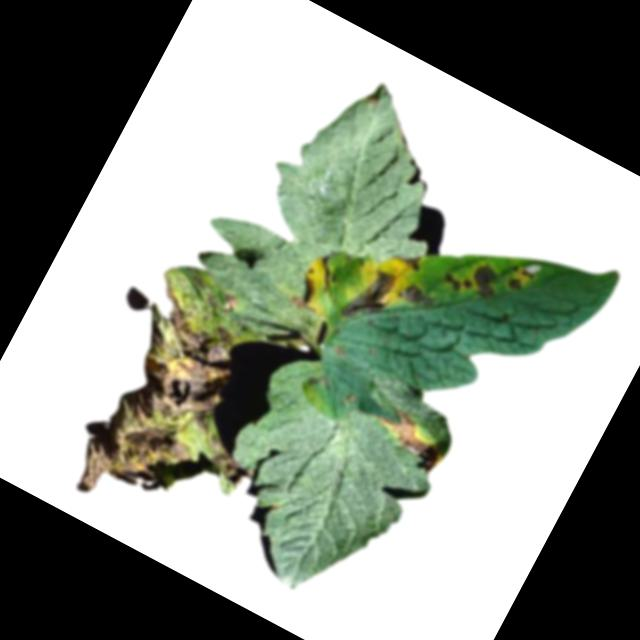Early_blight: (56, 255, 328, 560), (356, 395, 454, 478), (337, 257, 403, 333), (438, 250, 497, 306), (284, 266, 330, 318), (398, 281, 437, 315), (503, 263, 537, 300), (393, 246, 426, 274)
